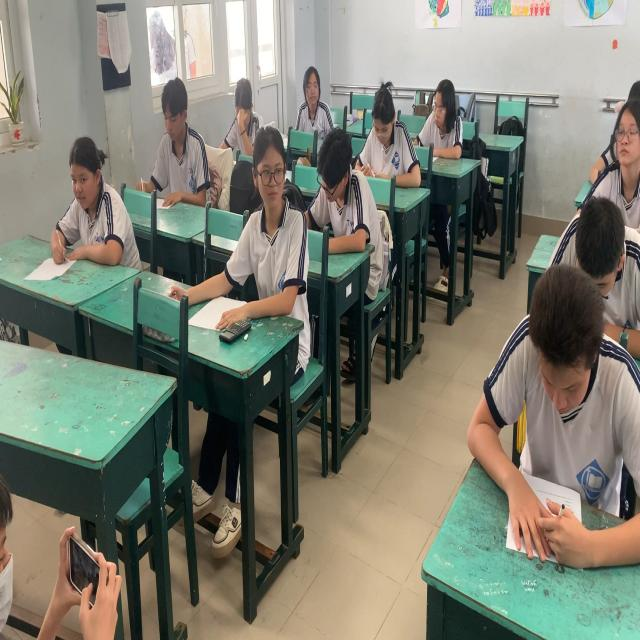cheating: (240, 116, 302, 336), (47, 134, 128, 274)
not_cheating: (498, 266, 640, 532), (552, 184, 640, 318), (316, 126, 376, 272), (156, 66, 212, 216), (362, 70, 419, 199), (598, 95, 640, 218), (419, 73, 470, 165), (221, 68, 257, 154), (292, 59, 326, 140)
